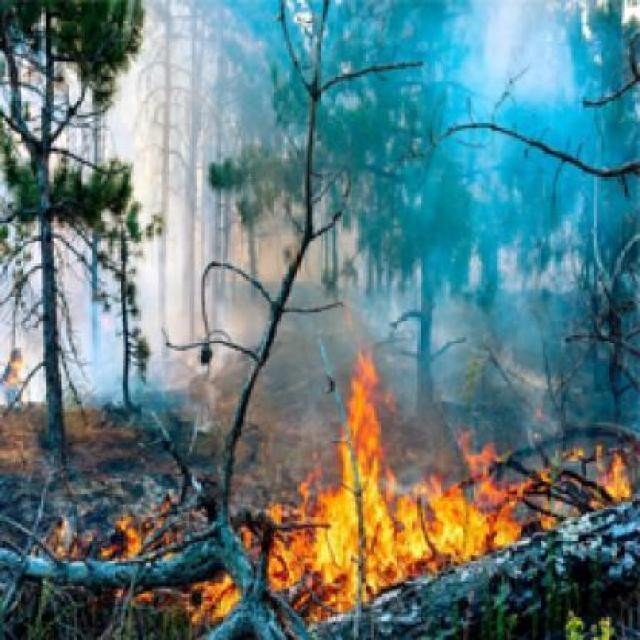Fire: (240, 368, 550, 634)
